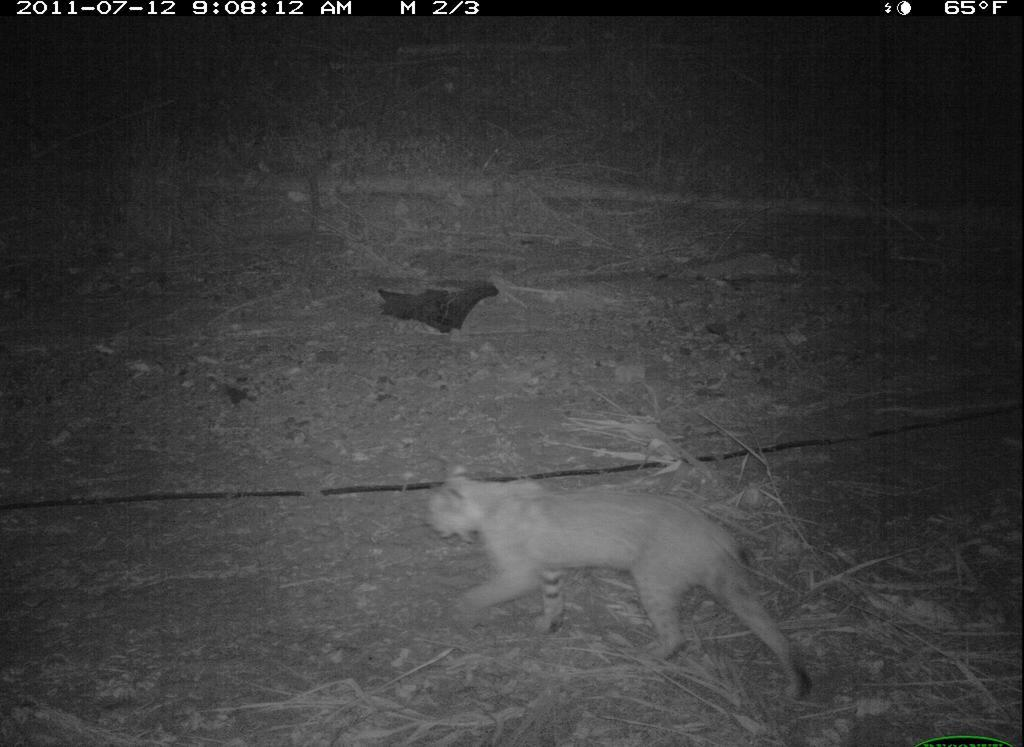bobcat: (417, 468, 829, 717)
